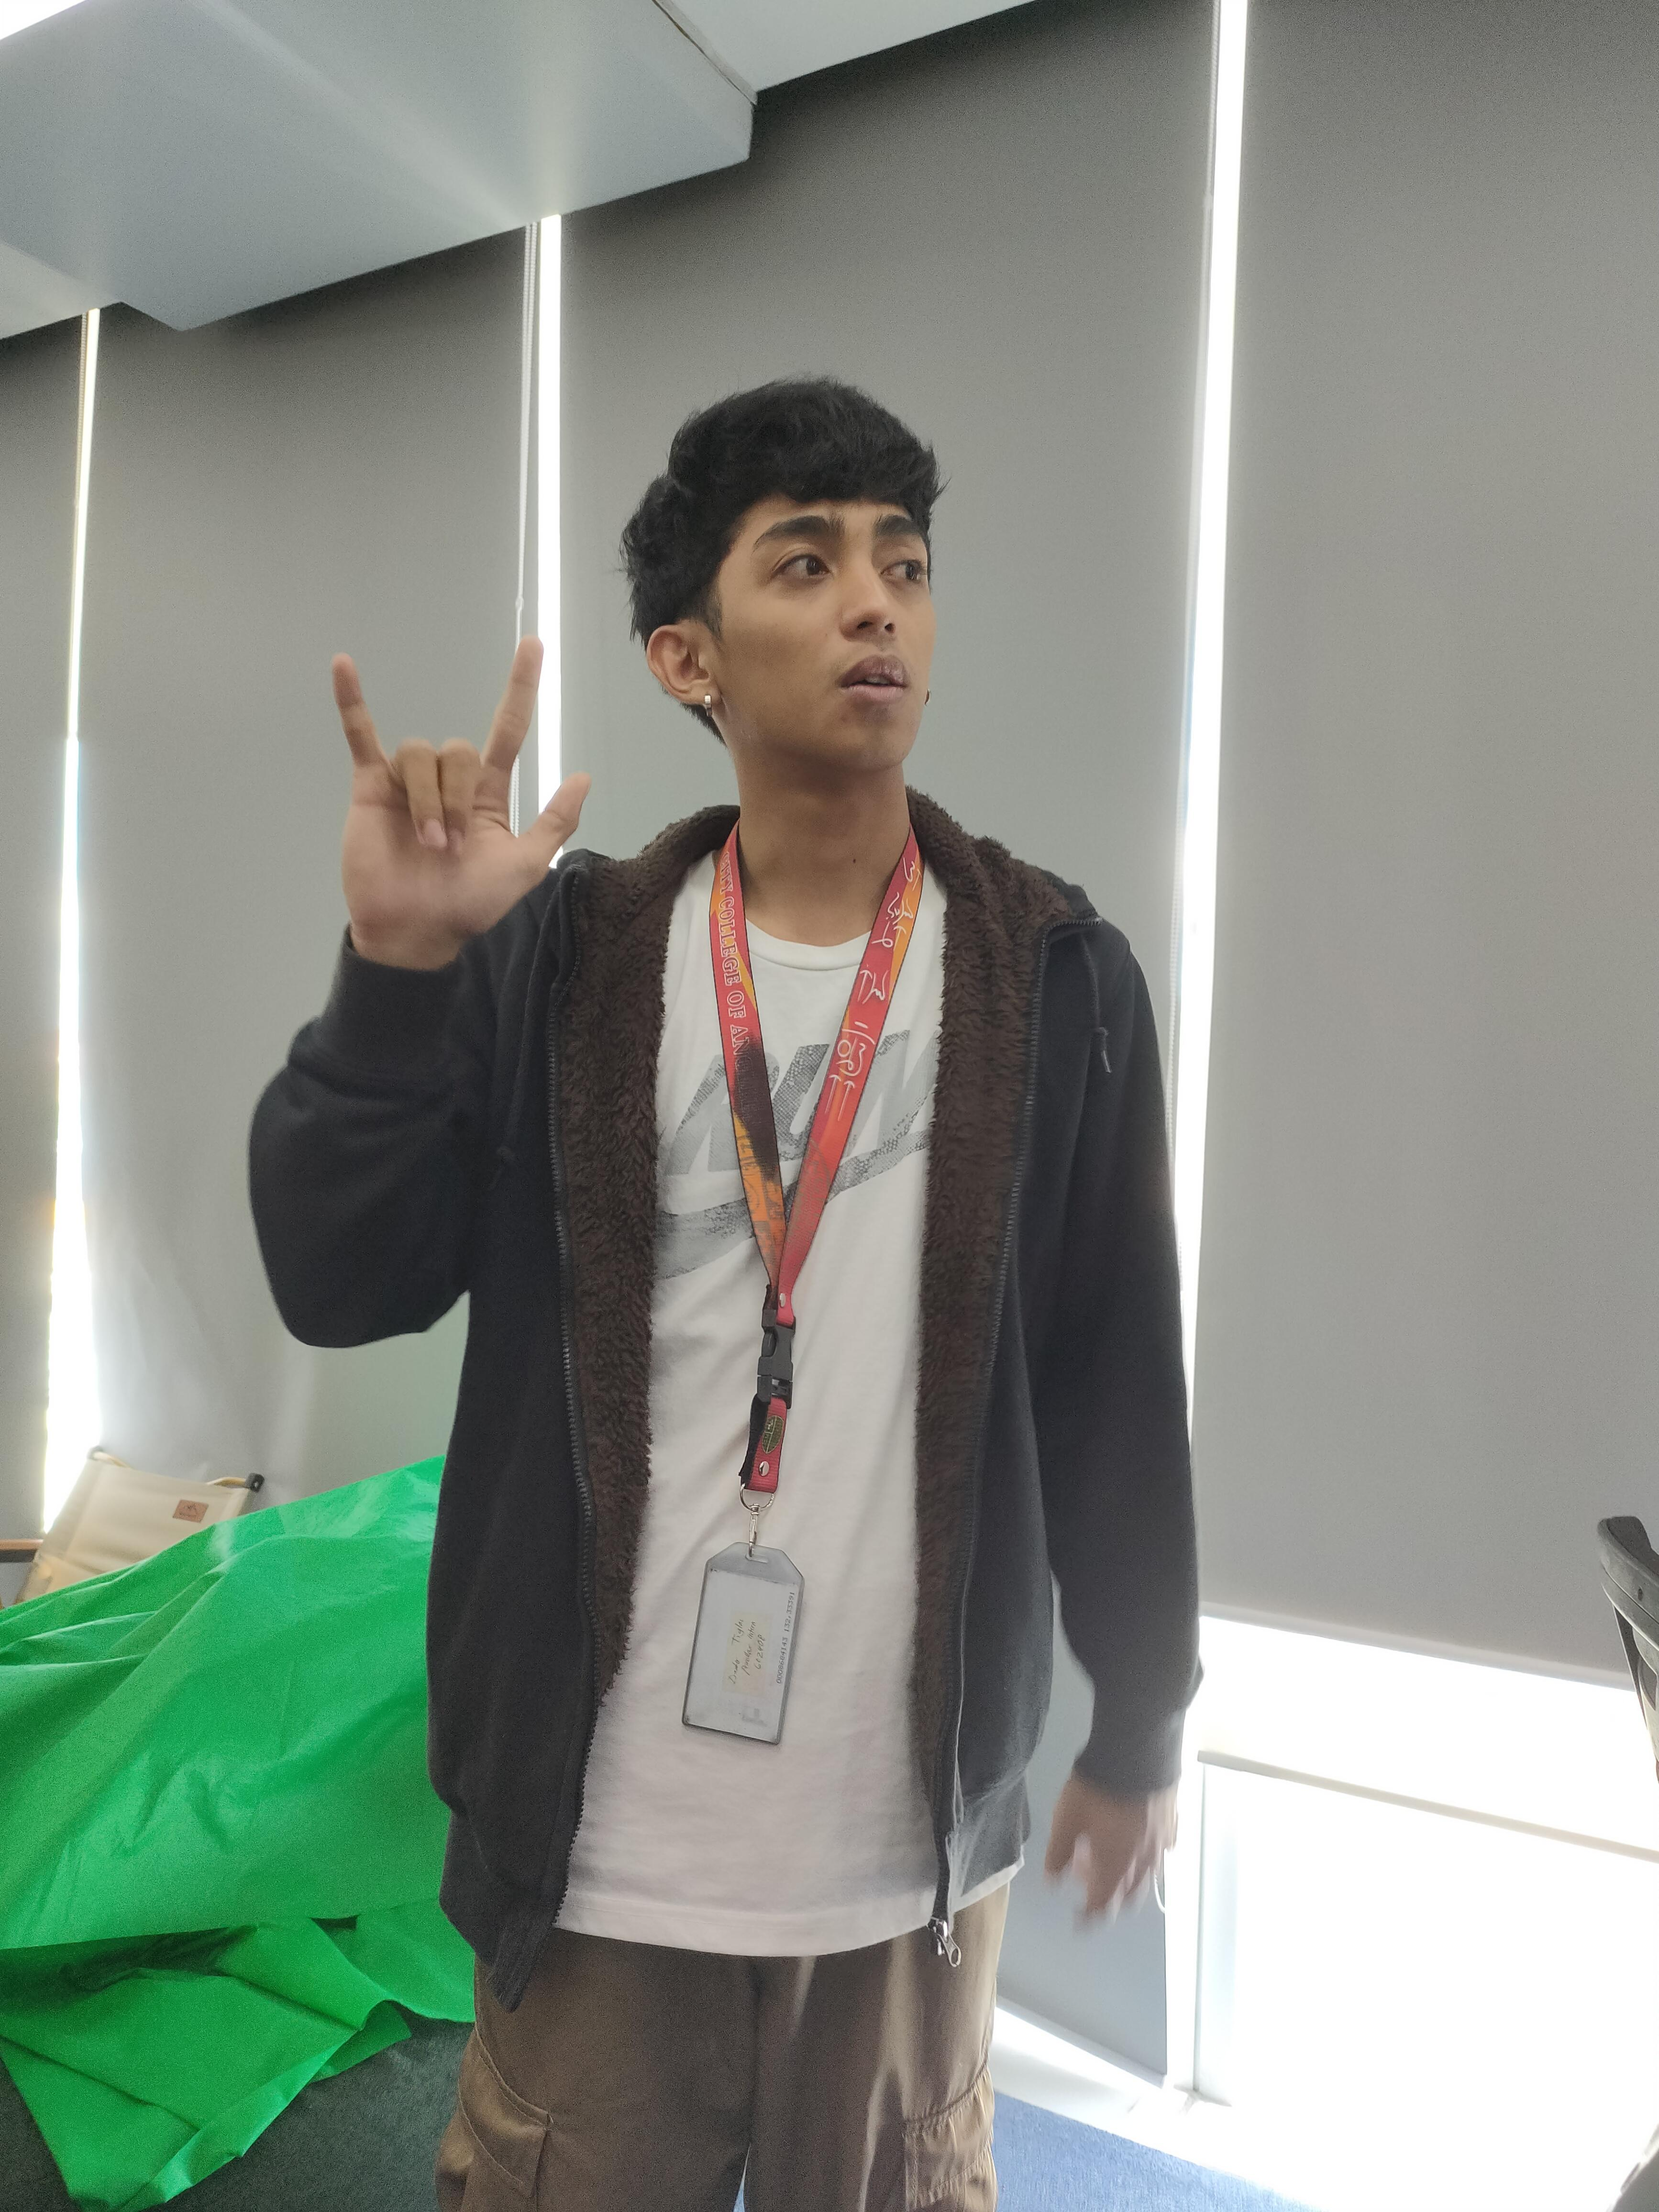Love_you: (315, 636, 598, 948)
